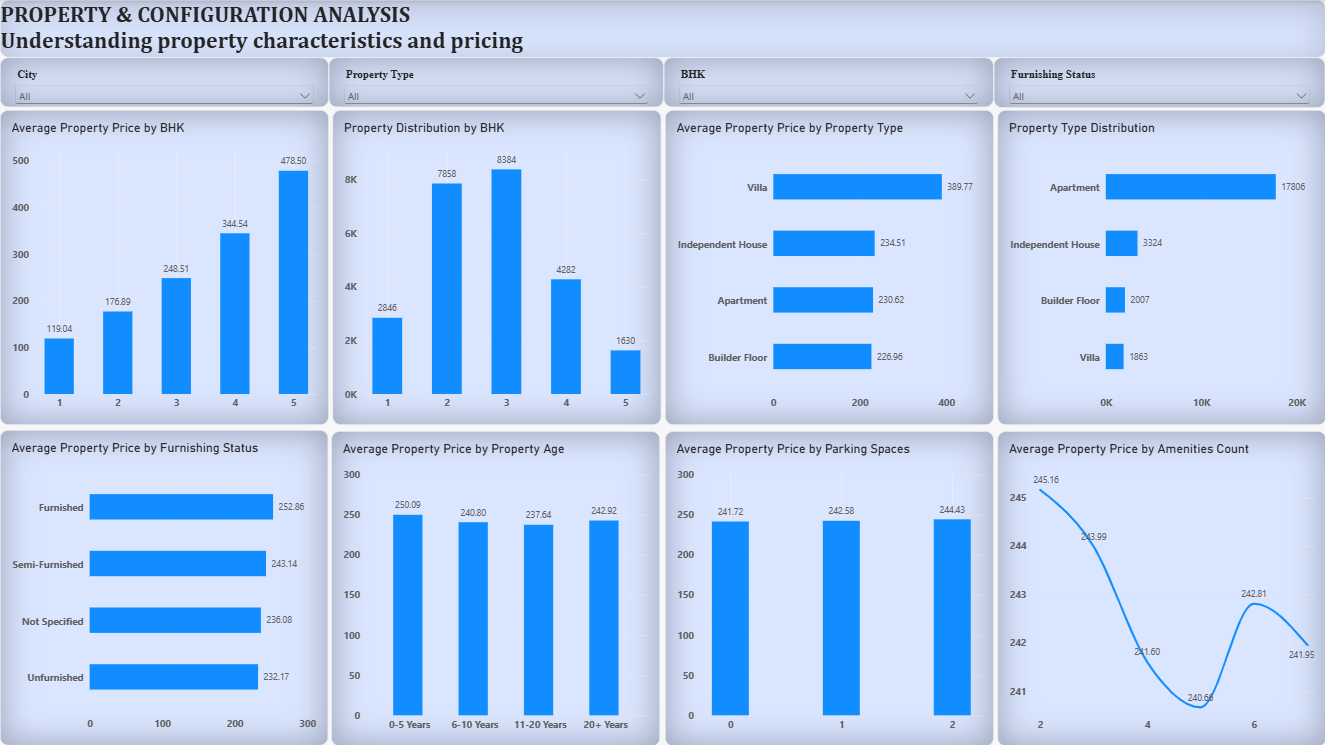

The page's visual inventory and layout, read from the dashboard file:
{"tool":"powerbi","page":{"name":"Property Analysis","canvas":[1920,1080],"ordinal":2},"visuals":[{"type":"textbox","box":[0,0,1920.1,83.2],"z":0},{"type":"slicer","fields":{"Values":["public real_estate.city"]},"box":[0,83.2,475.9,72.4],"z":1000},{"type":"clusteredColumnChart","title":"Average Property Price by BHK","fields":{"Category":["public real_estate.bhk"],"Y":["All Measures.Avg Property Price"]},"box":[0,159.3,475.9,456],"z":2000},{"type":"slicer","fields":{"Values":["public real_estate.furnishing_status"]},"box":[1439.5,82.7,479.8,72.8],"z":3000},{"type":"slicer","fields":{"Values":["public real_estate.bhk"]},"box":[960.9,83.2,477.8,72.4],"z":4000},{"type":"slicer","fields":{"Values":["public real_estate.property_type"]},"box":[475.9,83.2,485,72.4],"z":5000},{"type":"clusteredBarChart","title":"Average Property Price by Furnishing Status","fields":{"Category":["public real_estate.furnishing_status"],"Y":["public real_estate.Avg Property Price"]},"box":[0,623.3,475,456.7],"z":6000},{"type":"clusteredBarChart","title":"Average Property Price by Property Type","fields":{"Y":["All Measures.Avg Property Price"],"Category":["public real_estate.property_type"]},"box":[962.7,159.3,475.9,456],"z":7000},{"type":"clusteredColumnChart","title":"Average Property Price by Parking Spaces","fields":{"Category":["public real_estate.parking_spaces"],"Y":["public real_estate.Avg Property Price"]},"box":[962.7,624.3,475.9,456],"z":8000},{"type":"clusteredColumnChart","title":"Average Property Price by Property Age","fields":{"Y":["All Measures.Avg Property Price"],"Category":["public real_estate.Property Age Group"]},"box":[479.6,623.9,475.9,456],"z":9000},{"type":"clusteredBarChart","title":"Property Type Distribution","fields":{"Category":["public real_estate.property_type"],"Y":["All Measures.Total Properties"]},"box":[1444.1,159.3,475.9,456],"z":10000},{"type":"lineChart","title":"Average Property Price by Amenities Count","fields":{"Category":["public real_estate.amenities_count"],"Y":["public real_estate.Avg Property Price"]},"box":[1444.1,624.3,475.9,456],"z":11000},{"type":"clusteredColumnChart","title":"Property Distribution by BHK","fields":{"Category":["public real_estate.bhk"],"Y":["All Measures.Total Properties"]},"box":[481.4,159.3,475.9,456],"z":12000}]}

Visuals, with their boxes in screenshot pixels (x1, y1, x2, y2), scaled from the page's 1920x1080 canvas onto the 1325x745 screenshot:
textbox: Rect(0, 0, 1324, 57)
slicer - public real_estate.city: Rect(0, 57, 328, 107)
"Average Property Price by BHK" clusteredColumnChart: Rect(0, 110, 328, 424)
slicer - public real_estate.furnishing_status: Rect(993, 57, 1324, 107)
slicer - public real_estate.bhk: Rect(663, 57, 993, 107)
slicer - public real_estate.property_type: Rect(328, 57, 663, 107)
"Average Property Price by Furnishing Status" clusteredBarChart: Rect(0, 430, 328, 744)
"Average Property Price by Property Type" clusteredBarChart: Rect(664, 110, 993, 424)
"Average Property Price by Parking Spaces" clusteredColumnChart: Rect(664, 431, 993, 744)
"Average Property Price by Property Age" clusteredColumnChart: Rect(331, 430, 659, 744)
"Property Type Distribution" clusteredBarChart: Rect(997, 110, 1324, 424)
"Average Property Price by Amenities Count" lineChart: Rect(997, 431, 1324, 744)
"Property Distribution by BHK" clusteredColumnChart: Rect(332, 110, 661, 424)
